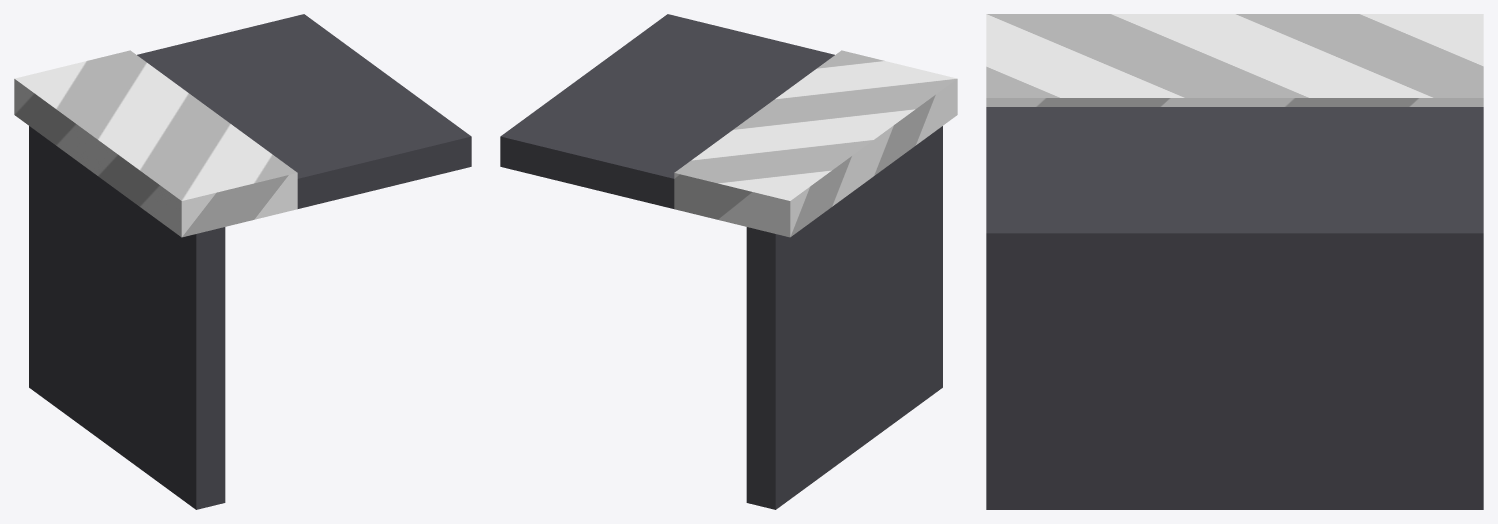
The model's file is FloorTrackBorder.fbx.
3 views of the same model, side by side, from view 1: azimuth 30°, elevation 25°; view 2: azimuth 150°, elevation 25°; view 3: azimuth 270°, elevation 25° (orthographic). The views are drawn at different scales.
Visible parts, largest first — view 1: mergedBlocks; view 2: mergedBlocks; view 3: mergedBlocks.
Boxes of the visible parts, x1,y1,x2,y2 form: mergedBlocks: (14,14,471,509); mergedBlocks: (500,14,957,509); mergedBlocks: (986,14,1483,509).
Size of the model in its own units: 10 by 10.3 by 10.
Materials: 2 (1 with a texture image).
